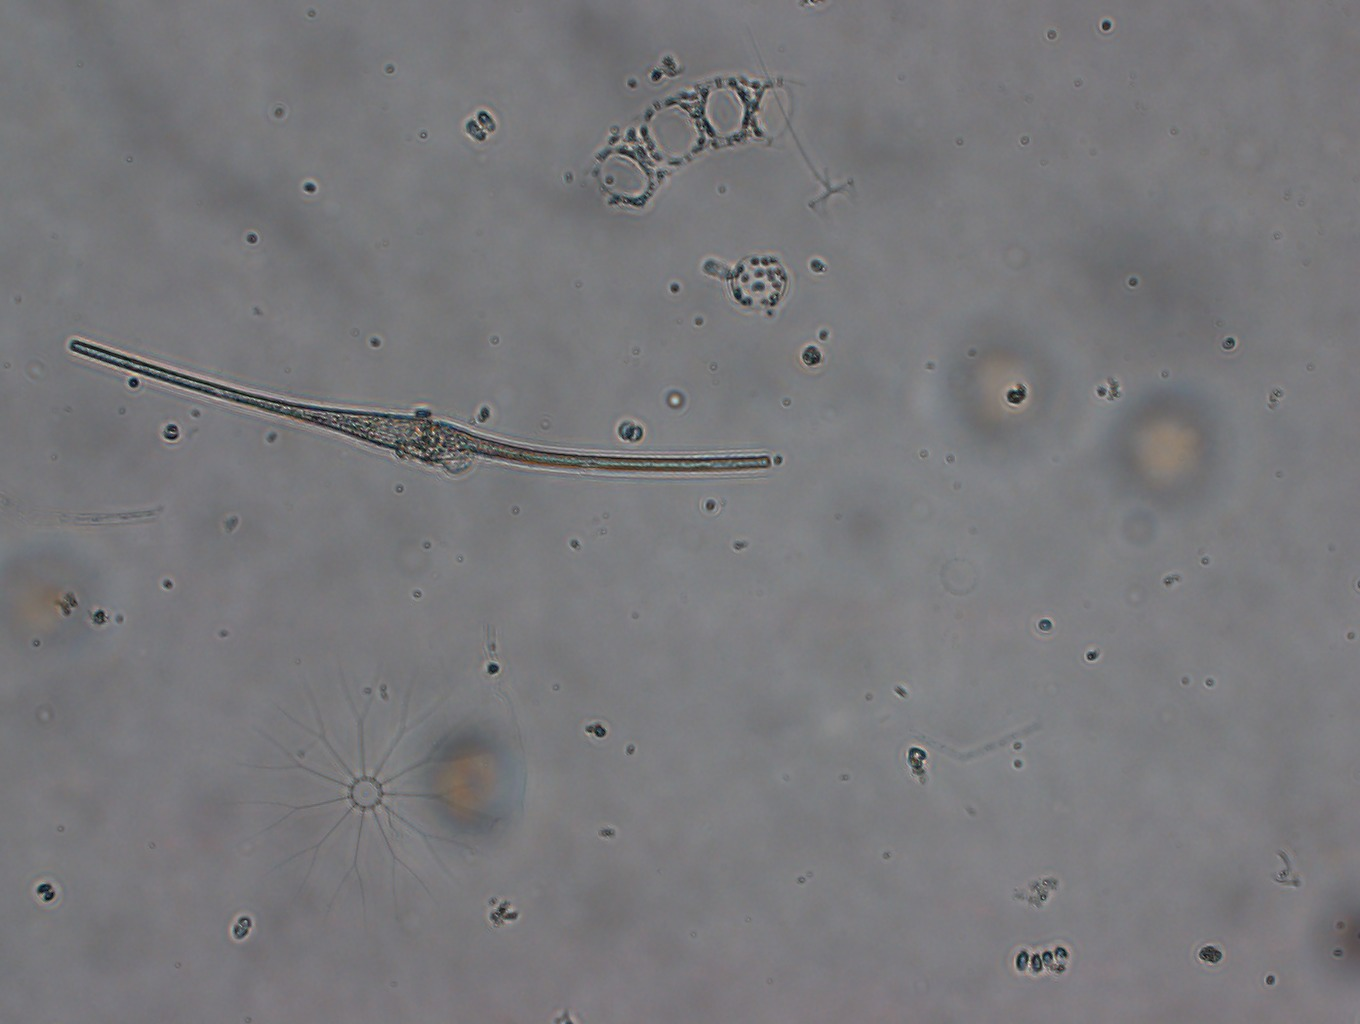bacteriastrum: (237, 662, 502, 918)
ceratium fusus: (67, 340, 777, 472)
eucampia: (589, 73, 801, 215)
